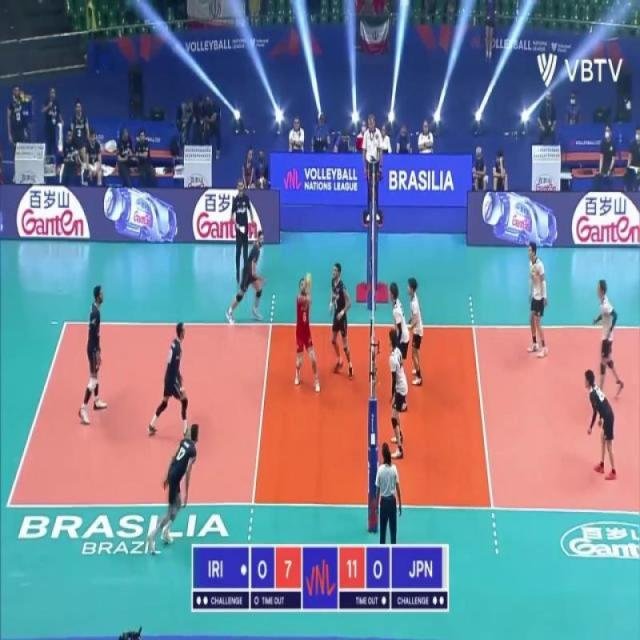volleyball: (303, 272, 313, 296), (19, 91, 25, 100)
